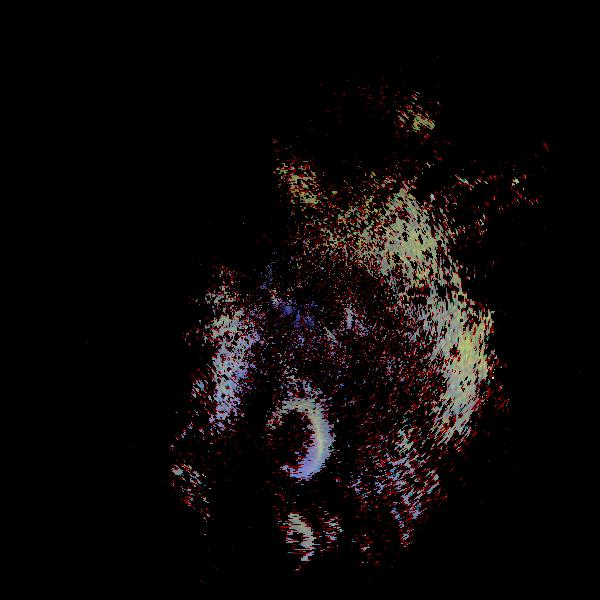roost: (244, 392, 343, 491), (247, 503, 325, 581)
